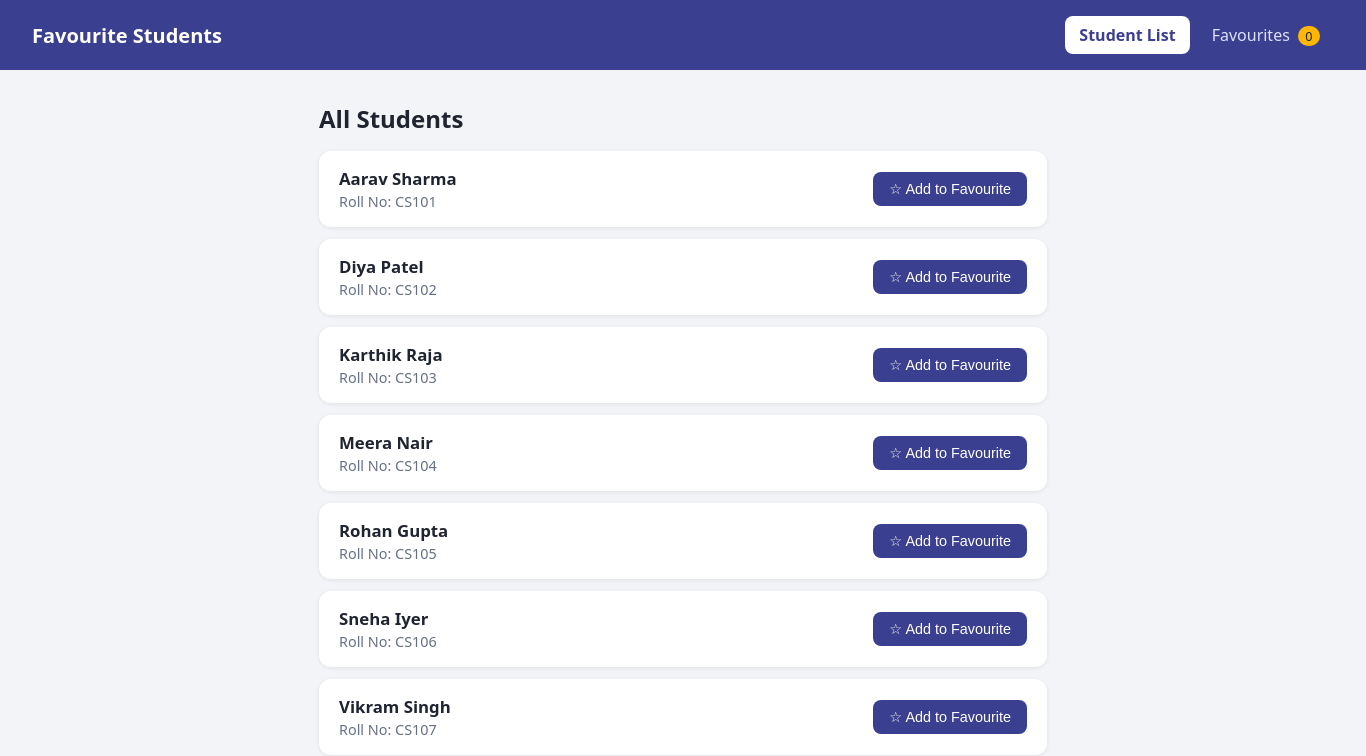
Test case: Favourite Student List › adds a student, blocks duplicates, and removes them
The image size is (1366, 756).
Note: Add Aarav from the list page
Click the button "☆ Add to Favourite" in the row of "Aarav Sharma" at (950, 189), box [873,172,1027,206]
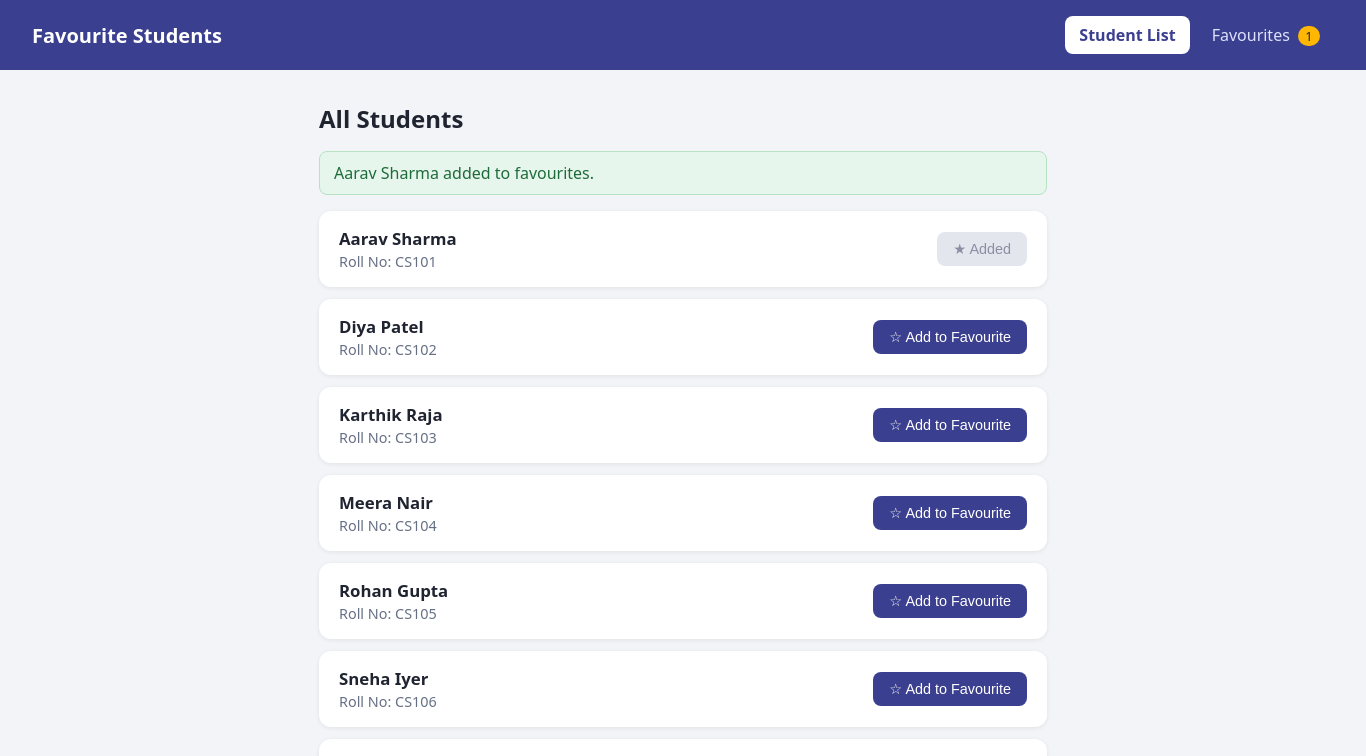
Expected: the button "★ Added" is disabled, [937,232,1027,266]
Click the link "Favourites 1" at (1266, 35), box [1212,24,1320,46]
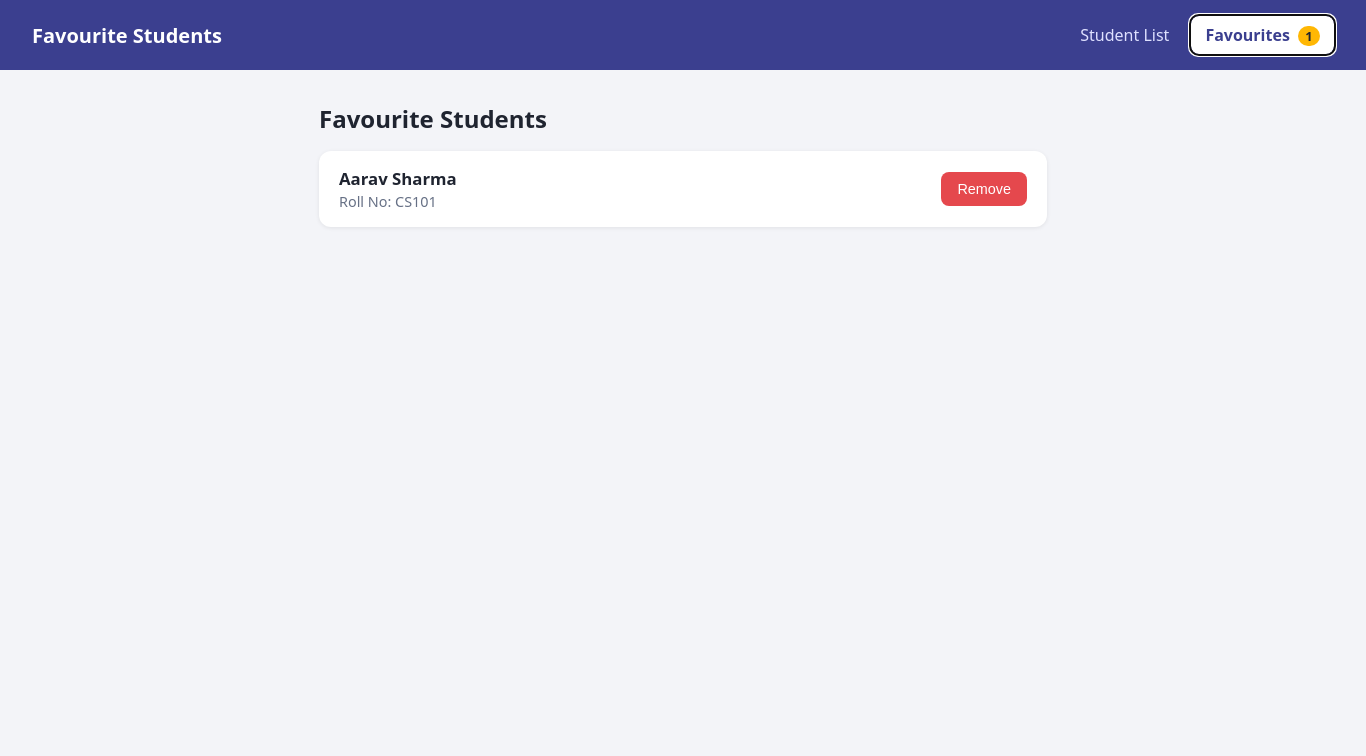
Expected: the heading "Aarav Sharma" is shown, [339,167,457,190]
Expected: the number of list items is 1, [319,151,1047,227]
Click the button "Remove" at (984, 189), box [941,172,1027,206]
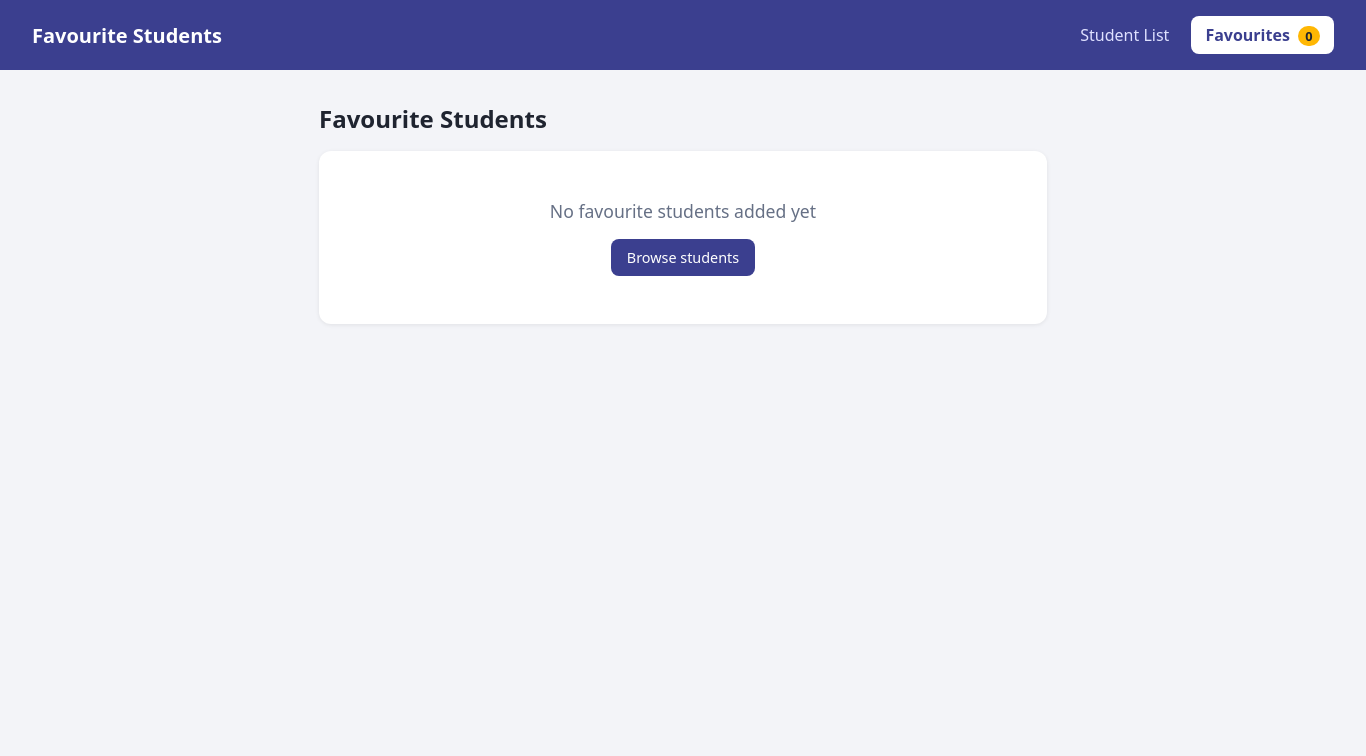
Expected: the text "No favourite students added yet" is shown, [550,199,816,223]
